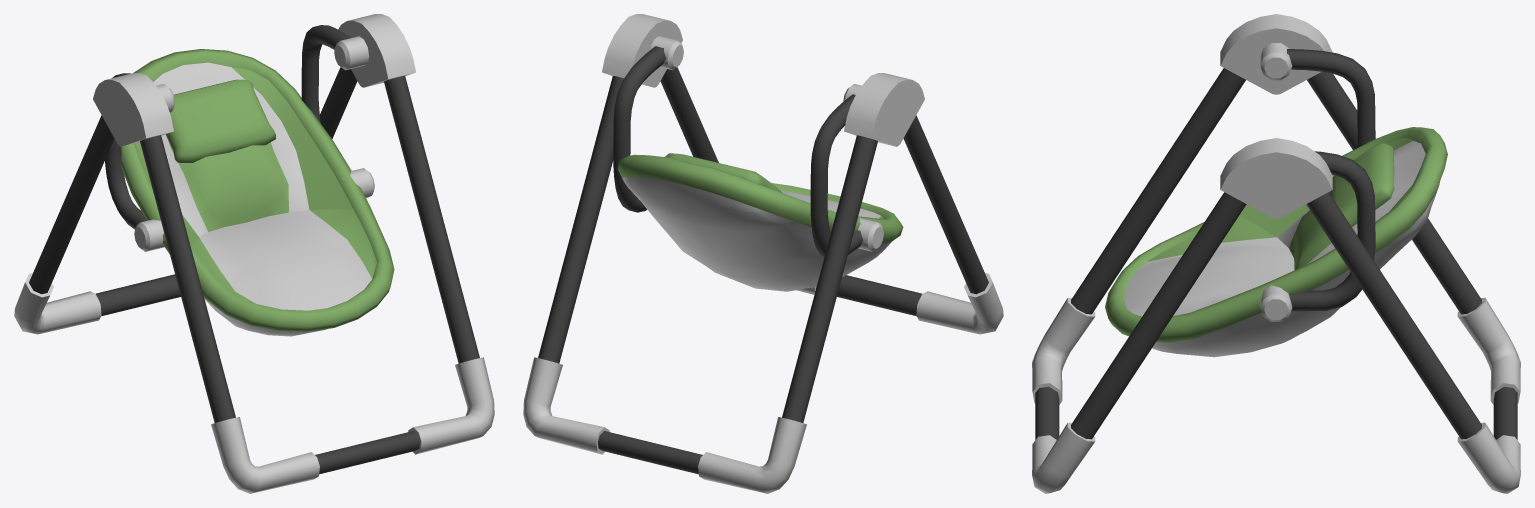
The model's file is BabySwing_01.fbx.
3 views of the same model, side by side, from view 1: azimuth 30°, elevation 25°; view 2: azimuth 150°, elevation 25°; view 3: azimuth 270°, elevation 25° (orthographic). The views are drawn at different scales.
Parts seen in each view (by area): view 1: BabySwing_01; view 2: BabySwing_01; view 3: BabySwing_01.
Part boxes in pixels (left/top/right/bottom): BabySwing_01: left=14, top=14, right=494, bottom=493; BabySwing_01: left=523, top=14, right=1003, bottom=493; BabySwing_01: left=1032, top=14, right=1520, bottom=493.
Bounding box in the file's own units: 0.4843 × 0.5772 × 0.7237.
